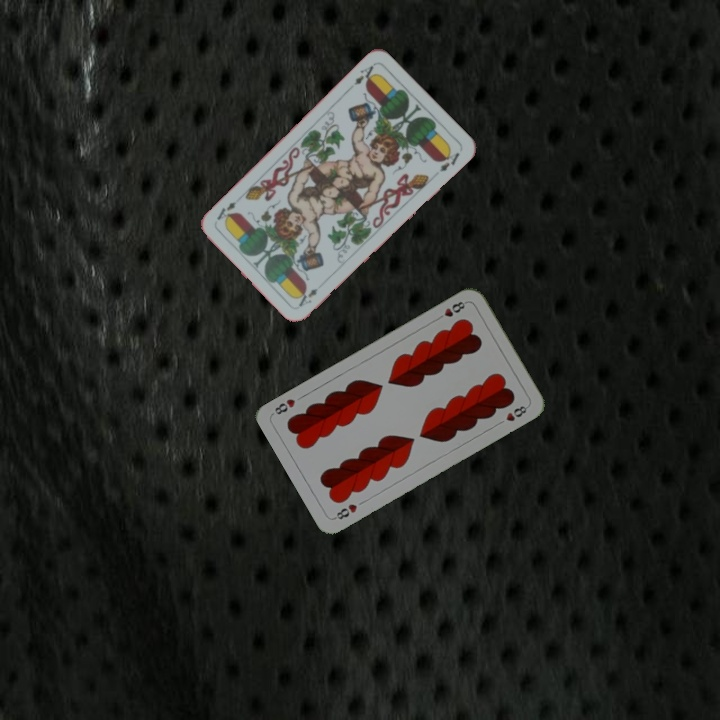EA: (350, 61, 378, 88), (294, 284, 320, 310)
H8: (432, 297, 470, 323), (330, 500, 360, 522)
